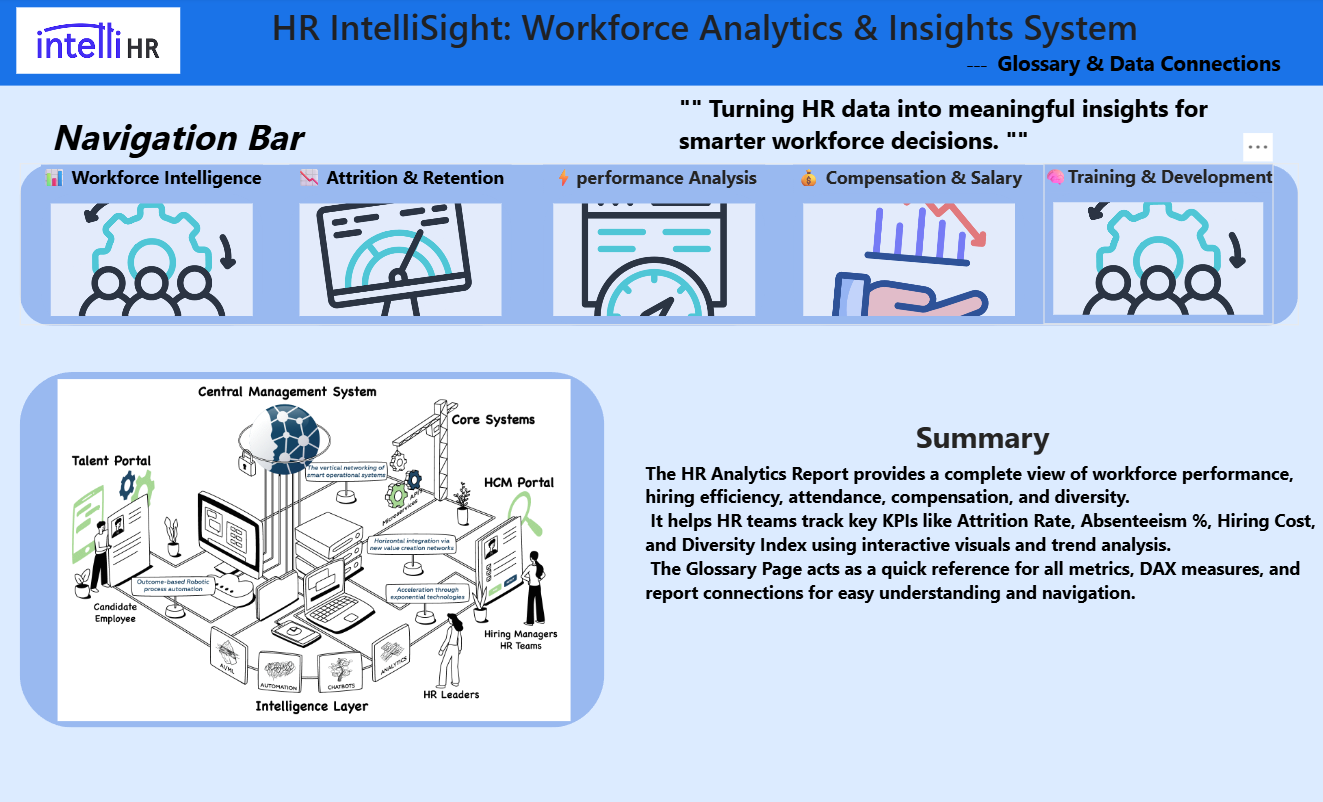

Layout of this report page (visuals, bound fields, positions):
{"tool":"powerbi","page":{"name":"Page 1","canvas":[1280,720],"ordinal":8},"visuals":[{"type":"shape","box":[657.5,0,171.2,655],"z":0,"group":"g8"},{"type":"shape","box":[733.8,21.2,171.2,655],"z":0,"group":"g7"},{"type":"shape","box":[421.2,53.8,171.2,655],"z":0,"group":"g9"},{"type":"shape","box":[358.8,65,171.2,655],"z":0,"group":"g6"},{"type":"group","id":"g1","title":"Menu_Card","box":[0,147.5,1215,86.2],"z":0},{"type":"shape","box":[0,151,1215,82.8],"z":0,"group":"g1"},{"type":"shape","box":[996.2,381.2,100,65],"z":0,"group":"g4"},{"type":"image","box":[1005,381.2,82.5,65],"z":0,"group":"g3"},{"type":"group","id":"g2","title":"Group 3","box":[965,500,100,65],"z":0,"group":"g5"},{"type":"shape","box":[965,500,100,65],"z":0,"group":"g2"},{"type":"shape","box":[128.8,0,171.2,655],"z":1000},{"type":"image","box":[762.5,5.9,67.5,41.2],"z":1000,"group":"g8"},{"type":"image","box":[838.8,27.1,67.5,41.2],"z":1000,"group":"g7"},{"type":"pageNavigator","box":[14.4,161.8,1159.7,55.2],"z":1000,"group":"g1"},{"type":"slicer","fields":{"Values":["Calender.Year"]},"box":[421.2,163.8,171.2,325],"z":1000,"group":"g9"},{"type":"slicer","fields":{"Values":["Calender.Year"]},"box":[358.8,175,171.2,325],"z":1000,"group":"g6"},{"type":"group","id":"g3","title":"Group 2","box":[1005,381.2,82.5,65],"z":1000,"group":"g4"},{"type":"image","box":[965,500,100,53.8],"z":1000,"group":"g5"},{"type":"slicer","fields":{"Values":["01_Employee_Master_Fact.Gender"]},"box":[658.7,138.4,171.2,136.2],"z":2000,"group":"g8"},{"type":"image","box":[1174.1,147.5,40.9,31.5],"z":2000,"group":"g1"},{"type":"slicer","fields":{"Values":["01_Employee_Master_Fact.Gender"]},"box":[735,159.6,171.2,136.2],"z":2000,"group":"g7"},{"type":"group","id":"g4","title":"Group 3","box":[996.2,381.2,100,65],"z":2000},{"type":"slicer","fields":{"Values":["01_Employee_Master_Fact.Department"]},"box":[658.7,297.2,171.2,327.5],"z":3000,"group":"g8"},{"type":"slicer","fields":{"Values":["01_Employee_Master_Fact.Department"]},"box":[735,318.4,171.2,327.5],"z":3000,"group":"g7"},{"type":"group","id":"g5","title":"Group 4","box":[965,500,100,65],"z":3000},{"type":"group","id":"g6","title":"Group 1","box":[358.8,65,171.2,655],"z":4000},{"type":"group","id":"g7","title":"Group 5","box":[733.8,21.2,172.5,655],"z":5000},{"type":"group","id":"g8","title":"Group 5","box":[657.5,0,172.5,655],"z":6000},{"type":"group","id":"g9","title":"Group 1","box":[421.2,53.8,171.2,655],"z":7000},{"type":"image","box":[525,62.6,67.5,41.2],"z":8000,"group":"g9"},{"type":"image","box":[462.6,73.8,67.5,41.2],"z":8000,"group":"g6"}]}

Visuals, with their boxes on the page's 1280x720 design canvas (x1, y1, x2, y2). These are canvas units, not pixel positions in the 1323x802 screenshot, which may show the page scaled, cropped or inside an application window:
shape: rect(658, 0, 829, 655)
shape: rect(734, 21, 905, 676)
shape: rect(421, 54, 592, 709)
shape: rect(359, 65, 530, 720)
"Menu_Card" group: rect(0, 148, 1215, 234)
shape: rect(0, 151, 1215, 234)
shape: rect(996, 381, 1096, 446)
image: rect(1005, 381, 1088, 446)
"Group 3" group: rect(965, 500, 1065, 565)
shape: rect(965, 500, 1065, 565)
shape: rect(129, 0, 300, 655)
image: rect(762, 6, 830, 47)
image: rect(839, 27, 906, 68)
pageNavigator: rect(14, 162, 1174, 217)
slicer - Calender.Year: rect(421, 164, 592, 489)
slicer - Calender.Year: rect(359, 175, 530, 500)
"Group 2" group: rect(1005, 381, 1088, 446)
image: rect(965, 500, 1065, 554)
slicer - 01_Employee_Master_Fact.Gender: rect(659, 138, 830, 275)
image: rect(1174, 148, 1215, 179)
slicer - 01_Employee_Master_Fact.Gender: rect(735, 160, 906, 296)
"Group 3" group: rect(996, 381, 1096, 446)
slicer - 01_Employee_Master_Fact.Department: rect(659, 297, 830, 625)
slicer - 01_Employee_Master_Fact.Department: rect(735, 318, 906, 646)
"Group 4" group: rect(965, 500, 1065, 565)
"Group 1" group: rect(359, 65, 530, 720)
"Group 5" group: rect(734, 21, 906, 676)
"Group 5" group: rect(658, 0, 830, 655)
"Group 1" group: rect(421, 54, 592, 709)
image: rect(525, 63, 592, 104)
image: rect(463, 74, 530, 115)
